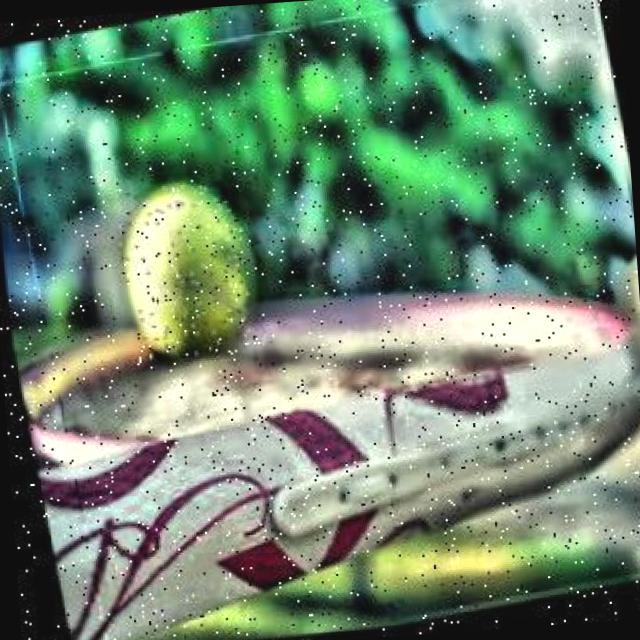tennis-ball: (104, 172, 268, 372)
